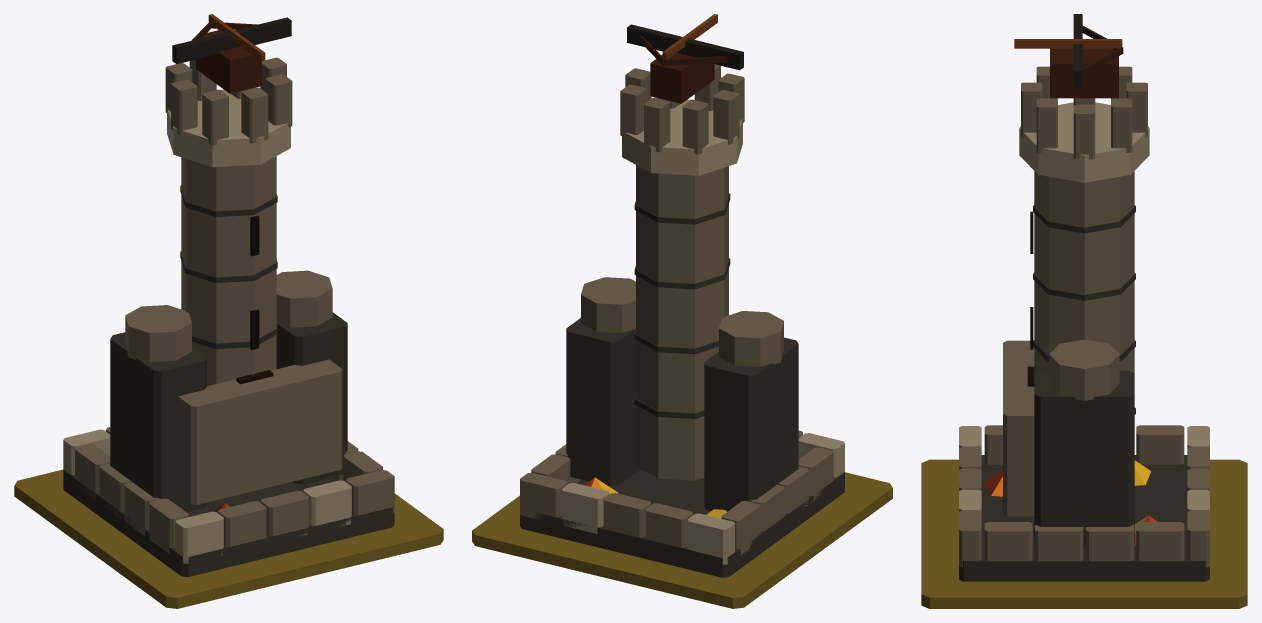
File: bastion_t2.glb
3 views of the same model, side by side, from view 1: azimuth 30°, elevation 25°; view 2: azimuth 150°, elevation 25°; view 3: azimuth 270°, elevation 25° (orthographic). The views are drawn at different scales.
Parts seen in each view (by area): view 1: MMR | bastion | T02 Architecture.001, MMR | bastion | T02 Heavy Buttresses.001, MMR | bastion | Tier 02 Ground.001; view 2: MMR | bastion | T02 Architecture.001, MMR | bastion | T02 Heavy Buttresses.001, MMR | bastion | Tier 02 Ground.001; view 3: MMR | bastion | T02 Architecture.001, MMR | bastion | T02 Heavy Buttresses.001, MMR | bastion | Tier 02 Ground.001, MMR | bastion | T02 Autumn Dressing.001.
Boxes of the visible parts, bbox=[...] form: MMR | bastion | T02 Architecture.001: bbox=[63, 14, 394, 576]; MMR | bastion | T02 Heavy Buttresses.001: bbox=[110, 270, 347, 512]; MMR | bastion | Tier 02 Ground.001: bbox=[14, 469, 443, 608]; MMR | bastion | T02 Architecture.001: bbox=[520, 14, 844, 577]; MMR | bastion | T02 Heavy Buttresses.001: bbox=[566, 277, 798, 511]; MMR | bastion | Tier 02 Ground.001: bbox=[472, 472, 892, 608]; MMR | bastion | T02 Architecture.001: bbox=[959, 14, 1209, 581]; MMR | bastion | T02 Heavy Buttresses.001: bbox=[1003, 340, 1134, 547]; MMR | bastion | Tier 02 Ground.001: bbox=[921, 459, 1247, 608]; MMR | bastion | T02 Autumn Dressing.001: bbox=[983, 460, 1157, 545].
Bounding box in the file's own units: 1.3 × 2.2 × 1.3.
Materials: 1 (1 with a texture image).
